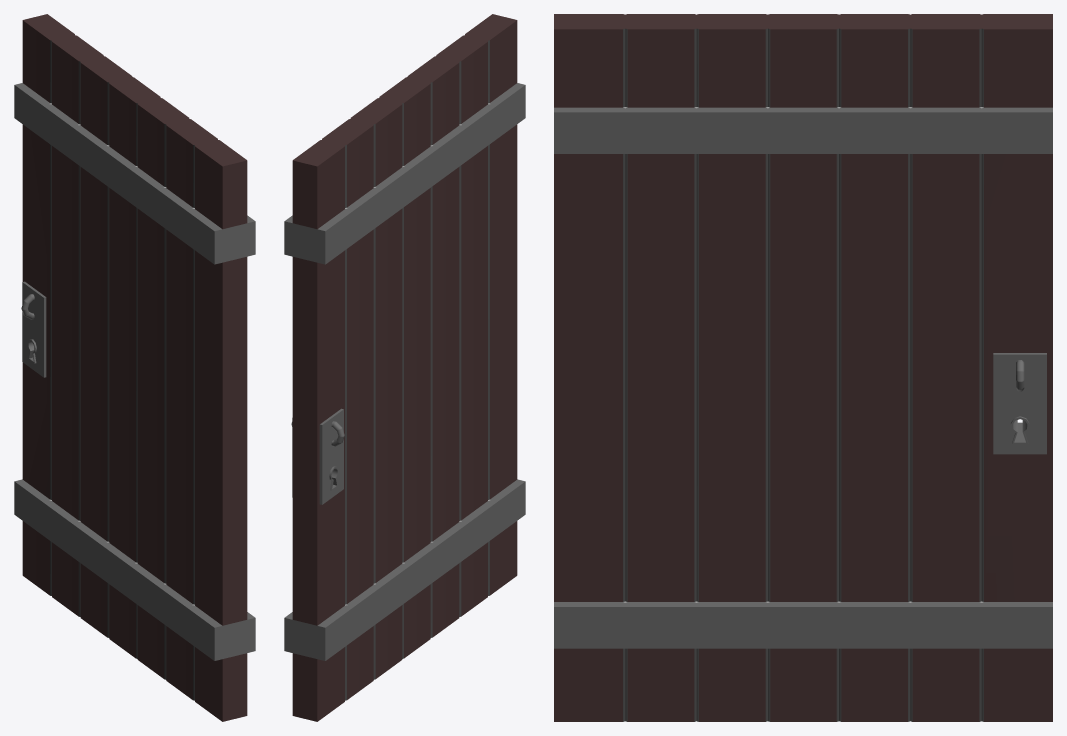
Rendered from StandardDoor.fbx.
The picture shows the model from 3 angles, left to right: view 1: azimuth 30°, elevation 25°; view 2: azimuth 150°, elevation 25°; view 3: azimuth 270°, elevation 25°; orthographic projection. The views are drawn at different scales.
Parts seen in each view (by area): view 1: StandardDoor; view 2: StandardDoor; view 3: StandardDoor.
Part boxes in pixels (box(x1,y1,x2,y2)): StandardDoor: box(14, 14, 255, 721); StandardDoor: box(284, 14, 525, 721); StandardDoor: box(554, 14, 1052, 721).
Size of the model in its own units: 0.68 by 6.95 by 4.54.
